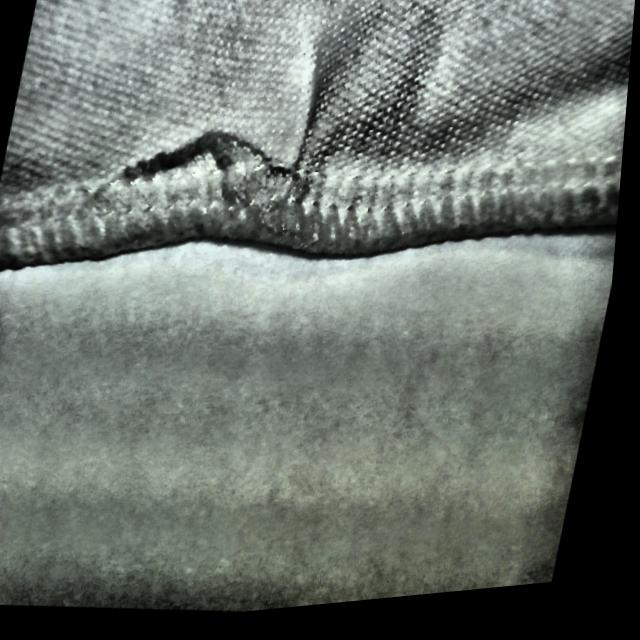seam: (116, 42, 365, 278)
